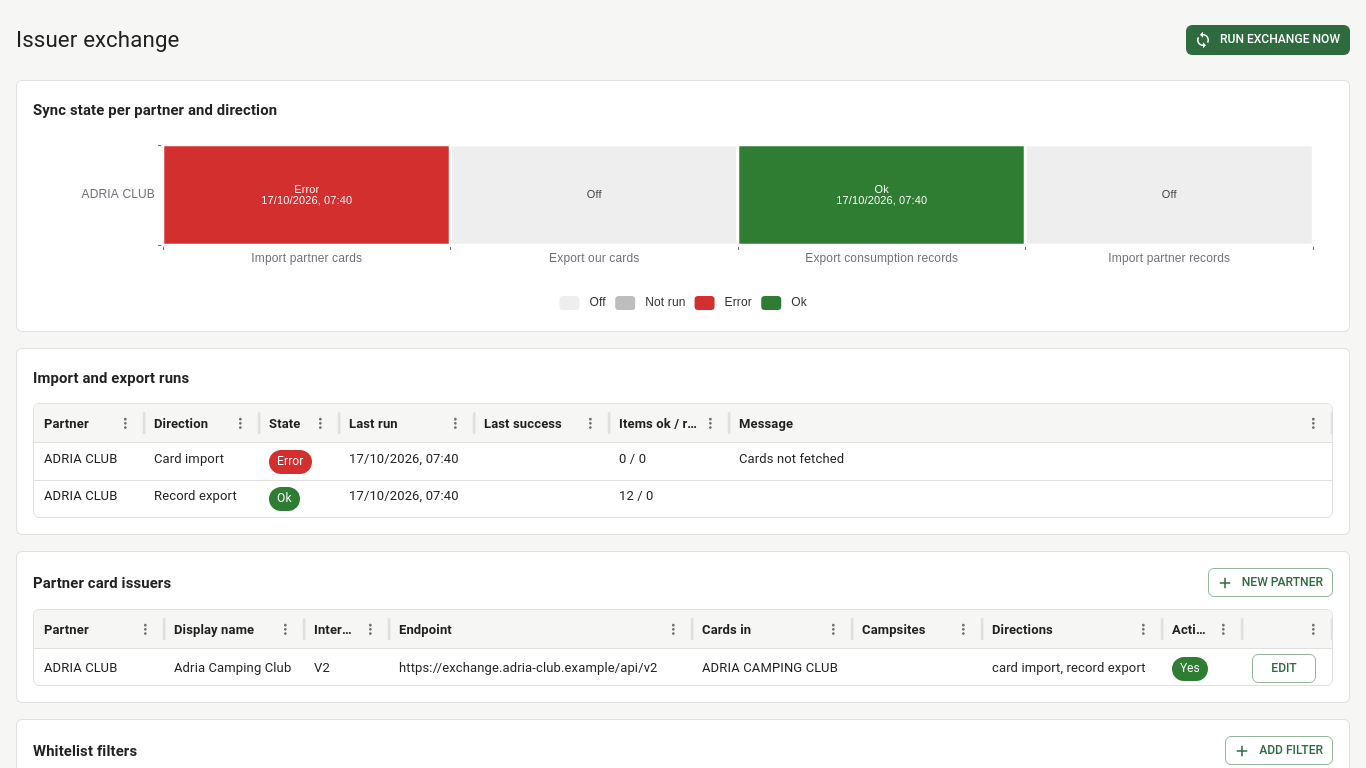
Test: issuer exchange tab › runs the exchange with every active partner after confirmation
Click the button with test id "run-exchange".
click(1268, 40)  # box [1186,25,1350,54]
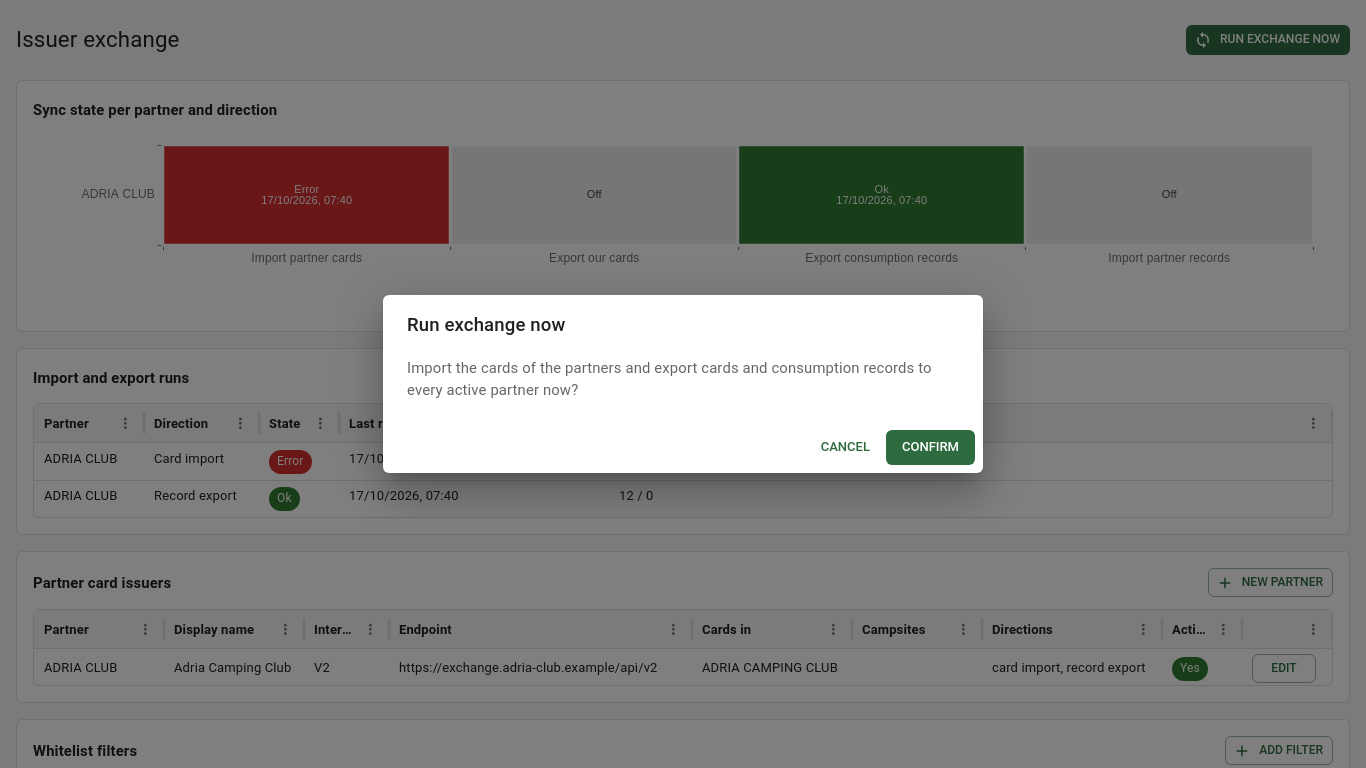
Click the button "Confirm".
click(930, 447)  # box [886,430,975,465]
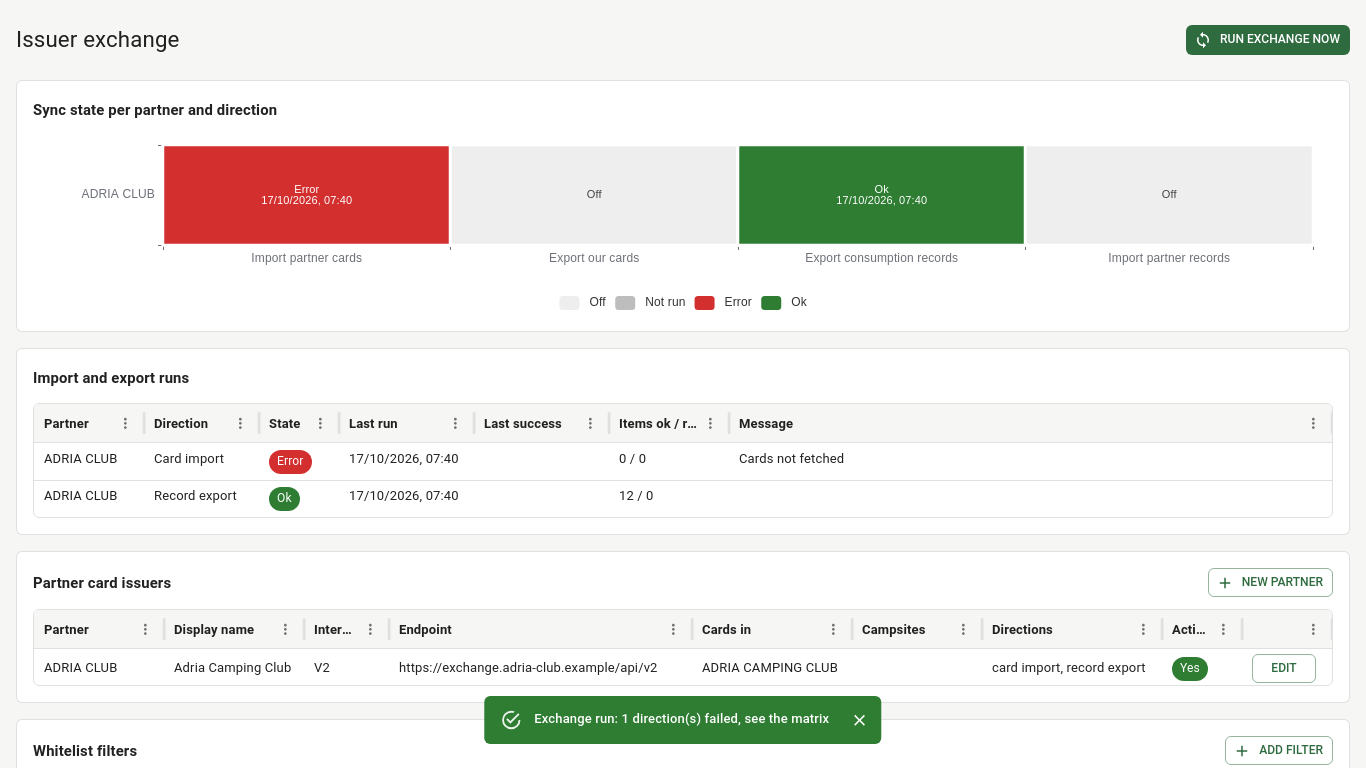
Result: the message with test id "notification" shows "1 direction(s) failed" at [534,711,829,726]
